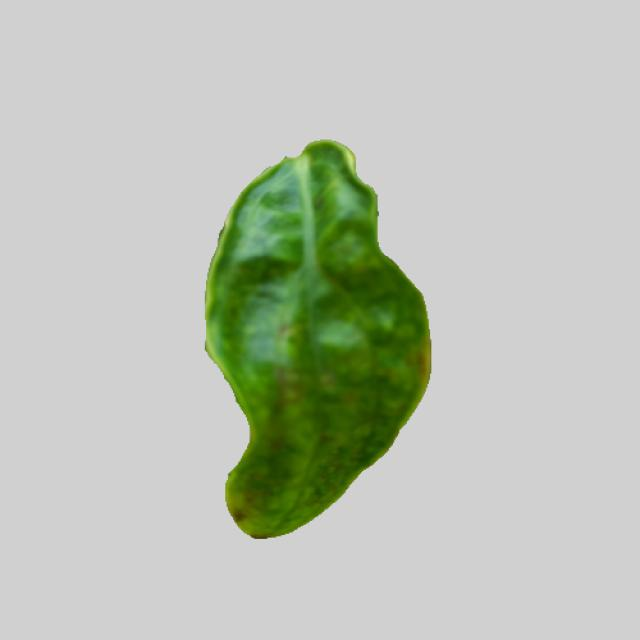yellow-mottle-virus: (184, 133, 436, 538)
